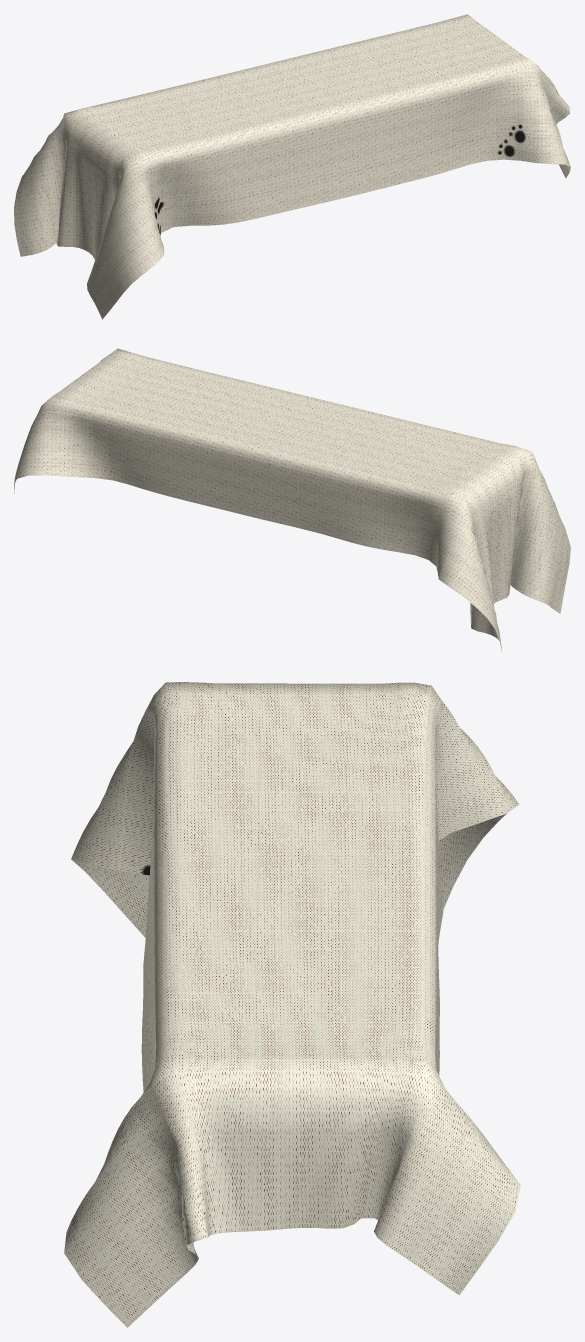
Rendered from cloth.fbx.
3 views of the same model, one above another, from view 1: azimuth 30°, elevation 25°; view 2: azimuth 150°, elevation 25°; view 3: azimuth 270°, elevation 25° (orthographic). The views are drawn at different scales.
Parts seen in each view (by area): view 1: pPlane1; view 2: pPlane1; view 3: pPlane1.
Part boxes in pixels (<box>): pPlane1: <box>14,14,570,319</box>; pPlane1: <box>14,348,570,651</box>; pPlane1: <box>64,682,520,1327</box>.
Size of the model in its own units: 12.5 by 3.79 by 5.06.
Materials: 1 (1 with a texture image).
